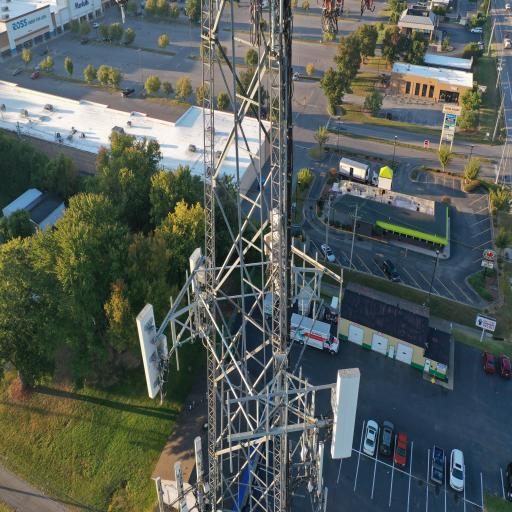supporting_tower: (119, 0, 364, 512)
